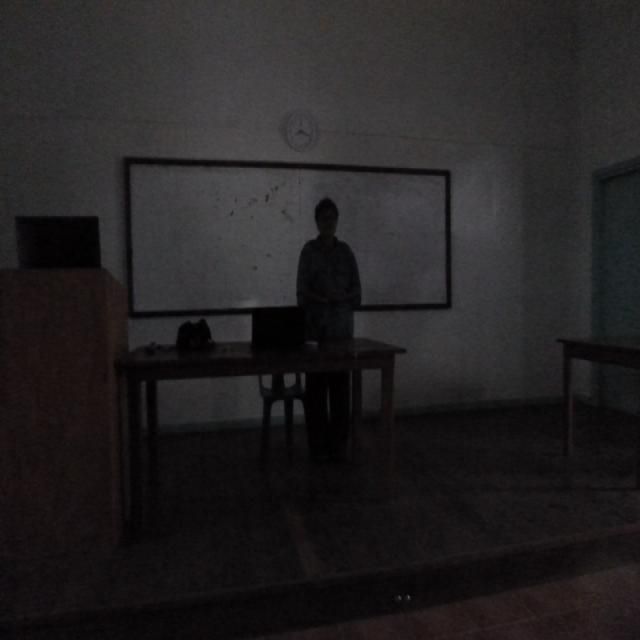People: (291, 179, 386, 379)
Table: (108, 303, 421, 533), (6, 258, 147, 559), (542, 320, 640, 474)
